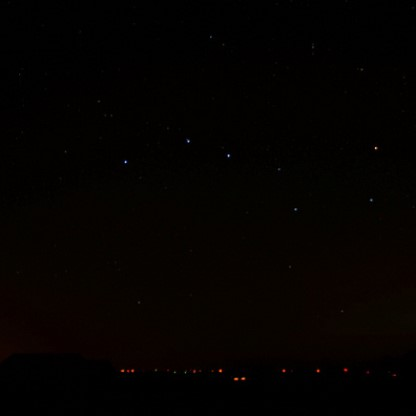Ursa Major: (173, 130, 201, 151), (115, 148, 137, 174), (282, 193, 304, 219), (270, 153, 286, 179), (367, 138, 385, 161), (219, 146, 238, 164), (362, 186, 377, 207)
